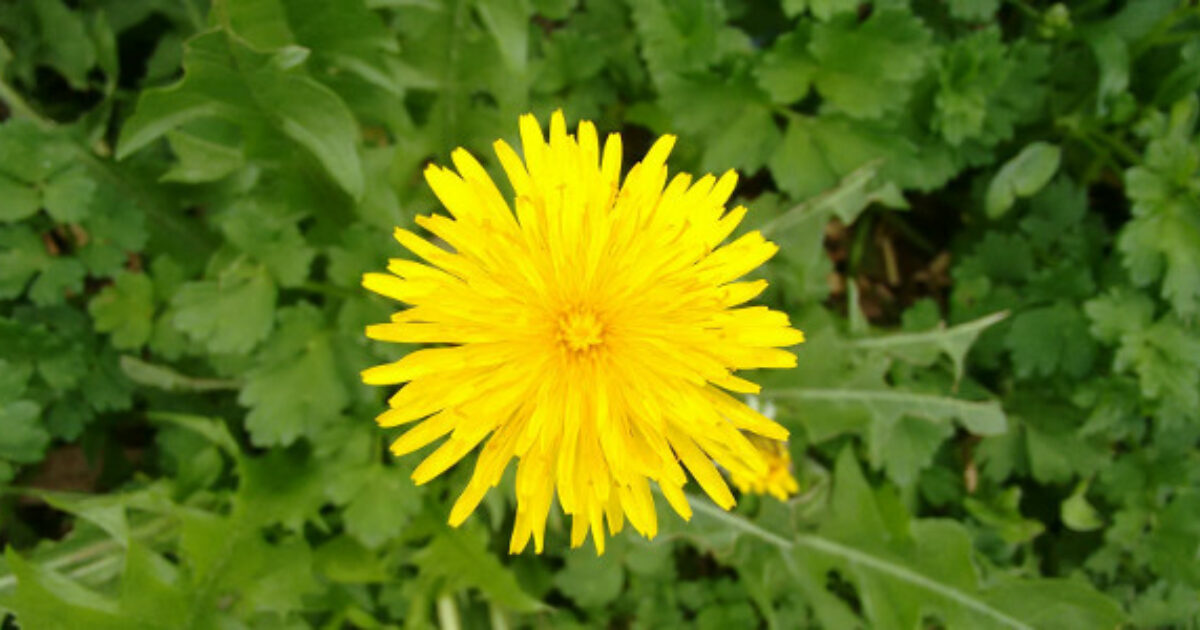dandelion yellow: (353, 100, 811, 556)
